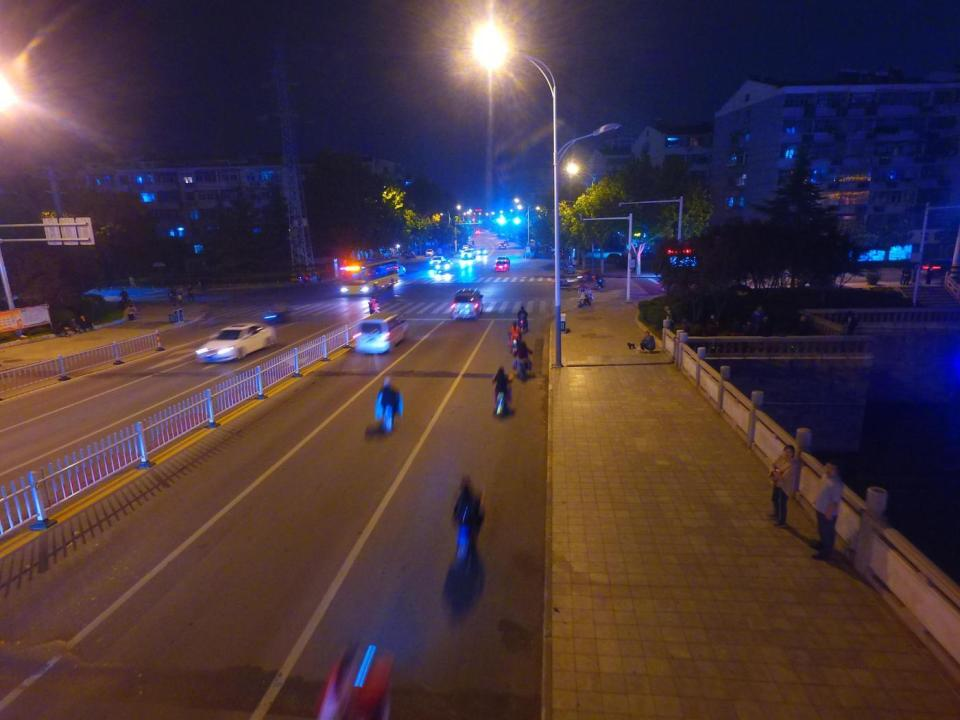bus: (339, 258, 398, 297)
car: (198, 324, 276, 367), (451, 288, 486, 320), (378, 263, 406, 277), (434, 261, 450, 274), (430, 255, 445, 268), (555, 278, 570, 290), (496, 256, 511, 268), (607, 253, 621, 265), (495, 260, 508, 272), (616, 258, 629, 269), (553, 249, 564, 260), (462, 250, 473, 259), (423, 250, 436, 257), (477, 248, 488, 256), (564, 267, 574, 274), (498, 244, 505, 250), (502, 240, 509, 246)
van: (357, 309, 413, 356)
